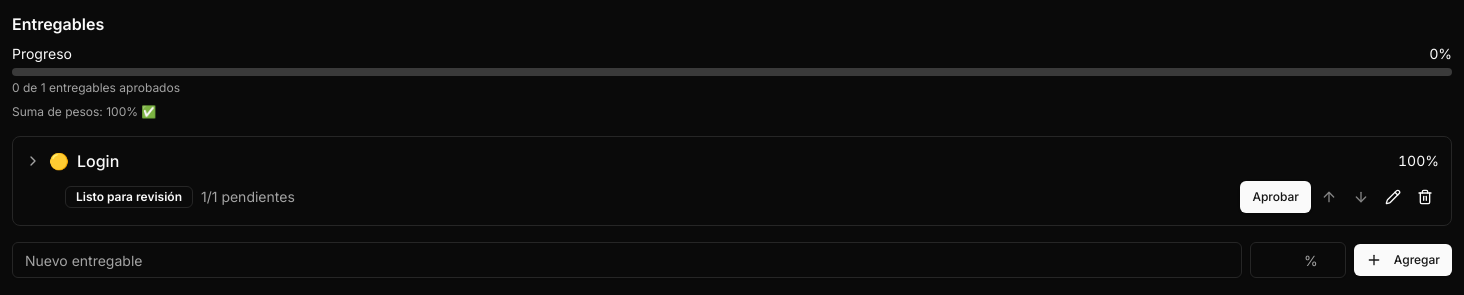
DeliverablesPanel › moves the progress bar the moment a deliverable is approved
Expected: the text "0%" is shown, [1429, 44, 1452, 64]
Click the button "Aprobar" at point(1276, 197), box [1240, 181, 1311, 213]
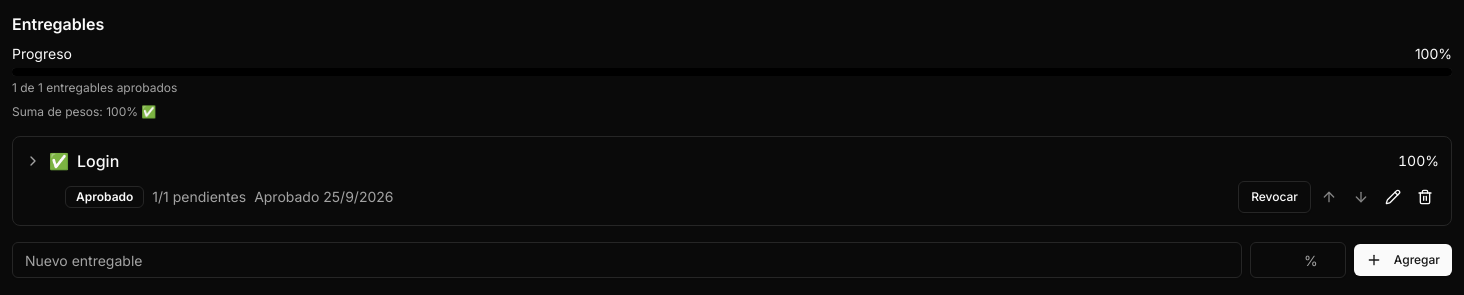
Expected: the text "100%" is shown 2 times, [1415, 44, 1452, 64]; [1398, 151, 1439, 171]
Result: the button "Revocar" is shown at [1238, 181, 1311, 213]
